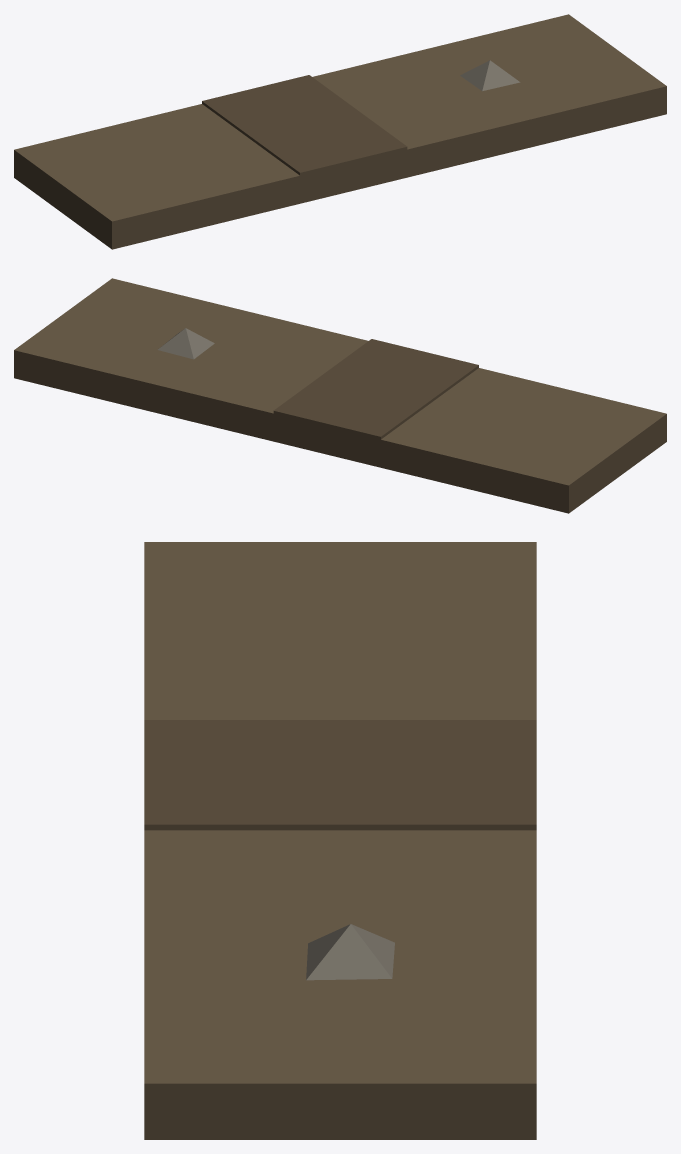
Rendered from f_path_arm.glb.
3 renders of one model, top to bottom at view 1: azimuth 30°, elevation 25°; view 2: azimuth 150°, elevation 25°; view 3: azimuth 270°, elevation 25°, orthographic. The views are drawn at different scales.
Visible parts, largest first — view 1: f_path_arm; view 2: f_path_arm; view 3: f_path_arm.
Part boxes in pixels (bbox=[...]): f_path_arm: bbox=[14, 14, 666, 249]; f_path_arm: bbox=[14, 278, 666, 513]; f_path_arm: bbox=[144, 542, 536, 1139].
Size of the model in its own units: 0.62 by 0.05 by 0.19.
